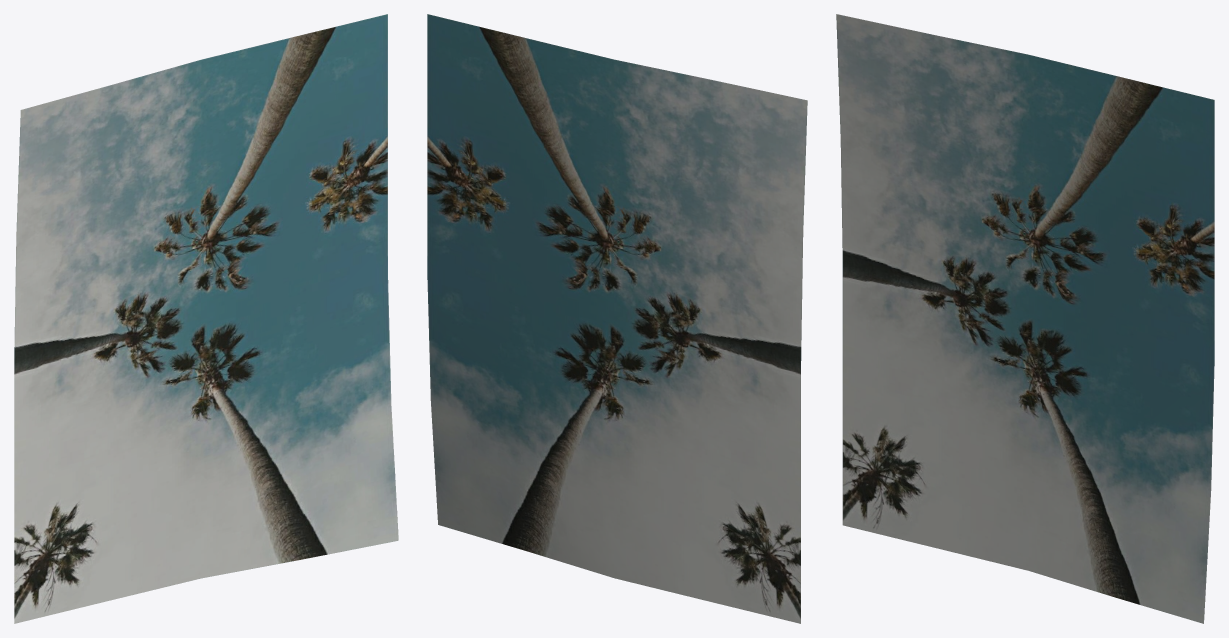
The model's file is Picture001.glb.
3 views of the same model, side by side, from view 1: azimuth 30°, elevation 25°; view 2: azimuth 150°, elevation 25°; view 3: azimuth 330°, elevation 25° (orthographic).
Parts seen in each view (by area): view 1: BP_Picture001; view 2: BP_Picture001; view 3: BP_Picture001.
Part boxes in pixels (x1=…): BP_Picture001: x1=14, y1=14, x2=398, y2=623; BP_Picture001: x1=427, y1=14, x2=807, y2=623; BP_Picture001: x1=836, y1=14, x2=1214, y2=623.
Bounding box in the file's own units: 0.202 × 0.2679 × 0.0101.
Materials: 1 (1 with a texture image).
